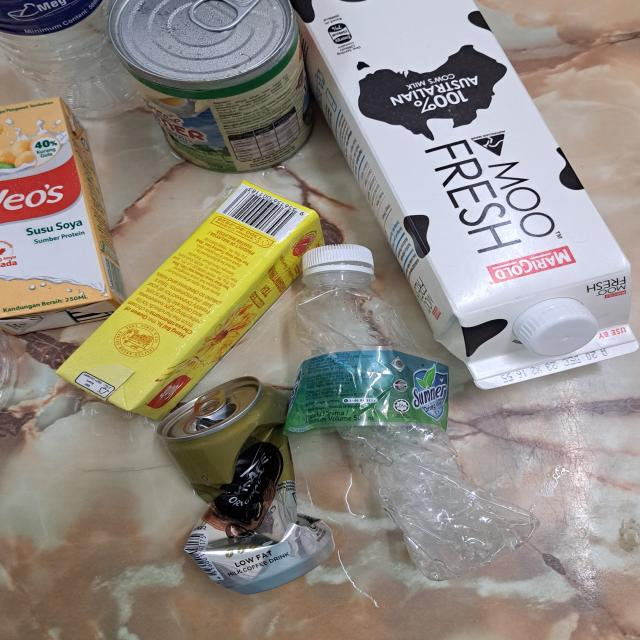can: (156, 375, 334, 595), (109, 0, 316, 174)
drink carton: (290, 0, 640, 391), (53, 180, 326, 422), (0, 97, 128, 338)
plastic bottle: (288, 278, 539, 580), (0, 0, 152, 122)
plastic bottle cap: (516, 301, 600, 358), (302, 243, 376, 276)
pop tab: (187, 0, 262, 32), (192, 388, 226, 418)
